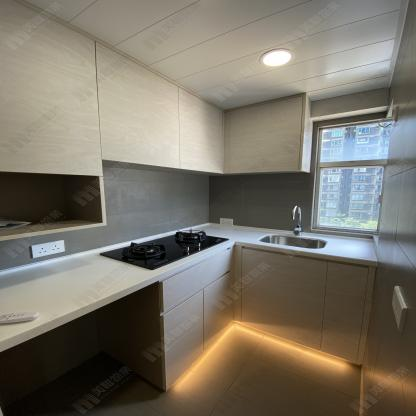Cupboard: (158, 246, 379, 394)
Faucet: (287, 200, 305, 238)
Sink: (255, 233, 330, 251)
Stove: (97, 229, 227, 270)
